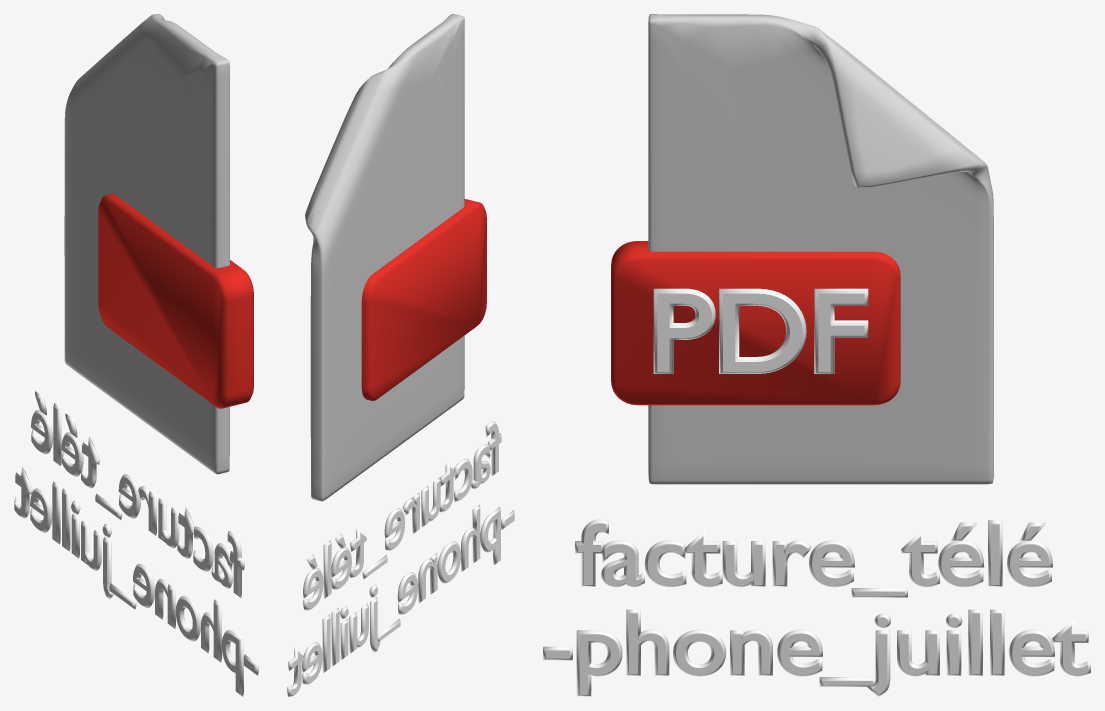
File: PDF_Facture_telephone.fbx
The picture shows the model from 3 angles, left to right: view 1: azimuth 30°, elevation 25°; view 2: azimuth 150°, elevation 25°; view 3: azimuth 270°, elevation 25°; orthographic projection. The views are drawn at different scales.
Visible parts, largest first — view 1: PDFName.001, Text.007; view 2: PDFName.001, Text.007; view 3: PDFName.001, Text.007.
Part boxes in pixels (box(x1,y1,x2,y2)): PDFName.001: box(64, 14, 253, 474); Text.007: box(14, 391, 258, 696); PDFName.001: box(305, 14, 486, 501); Text.007: box(287, 421, 514, 696); PDFName.001: box(611, 14, 993, 484); Text.007: box(543, 519, 1090, 696).
Bounding box in the file's own units: 59.34 × 511 × 369.
